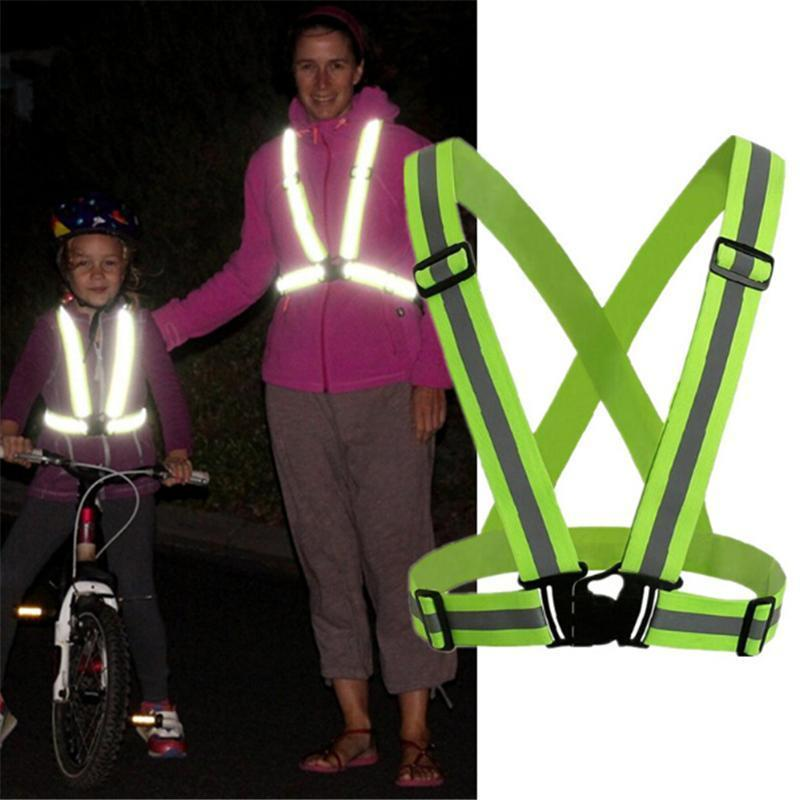Vest: (36, 304, 155, 448)
